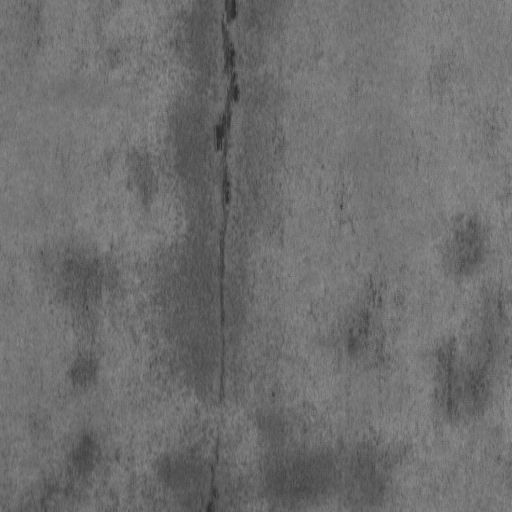zongxiangliewen: (200, 1, 242, 512)
